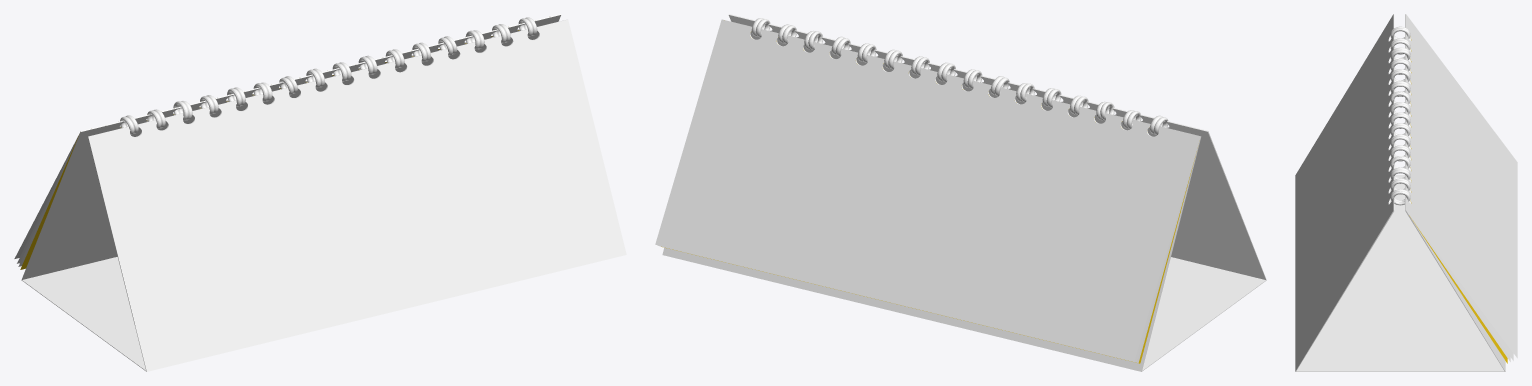
File: level-calendar.gltf
3 renders of one model, left to right at view 1: azimuth 30°, elevation 25°; view 2: azimuth 150°, elevation 25°; view 3: azimuth 270°, elevation 25°, orthographic. The views are drawn at different scales.
Parts seen in each view (by area): view 1: iron-circle; view 2: iron-circle; view 3: iron-circle.
Boxes of the visible parts, x1,y1,x2,y2 form: iron-circle: (14,14,626,371); iron-circle: (655,14,1266,371); iron-circle: (1295,14,1517,371).
Bounding box in the file's own units: 0.2987 × 0.1189 × 0.1429.
Materials: 6 (1 with a texture image).
